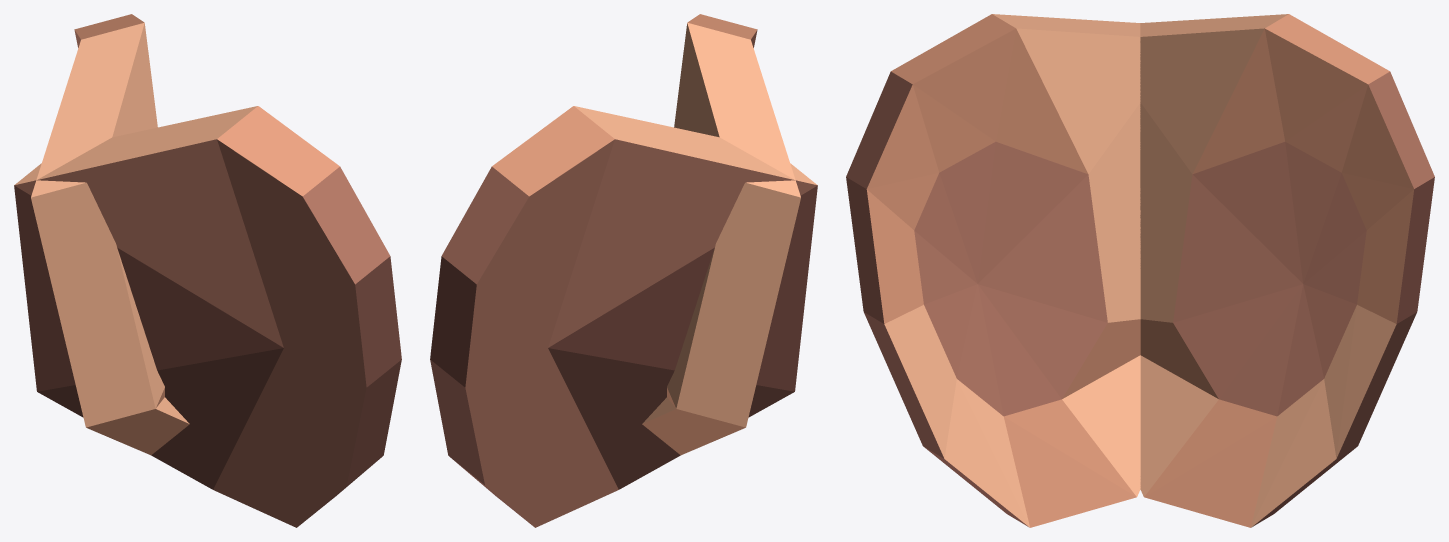
File: dw_lobe.glb
3 views of the same model, side by side, from view 1: azimuth 30°, elevation 25°; view 2: azimuth 150°, elevation 25°; view 3: azimuth 270°, elevation 25° (orthographic). The views are drawn at different scales.
Parts seen in each view (by area): view 1: Ear_R, Ear_L; view 2: Ear_L, Ear_R; view 3: Ear_L, Ear_R.
Part boxes in pixels (bbox=[...]): Ear_R: bbox=[14, 106, 401, 527]; Ear_L: bbox=[31, 14, 189, 455]; Ear_L: bbox=[430, 106, 817, 527]; Ear_R: bbox=[642, 14, 800, 455]; Ear_L: bbox=[1140, 14, 1434, 527]; Ear_R: bbox=[846, 14, 1140, 527].
Size of the model in its own units: 0.039 by 0.0586 by 0.067.
Materials: 1 (1 with a texture image).
